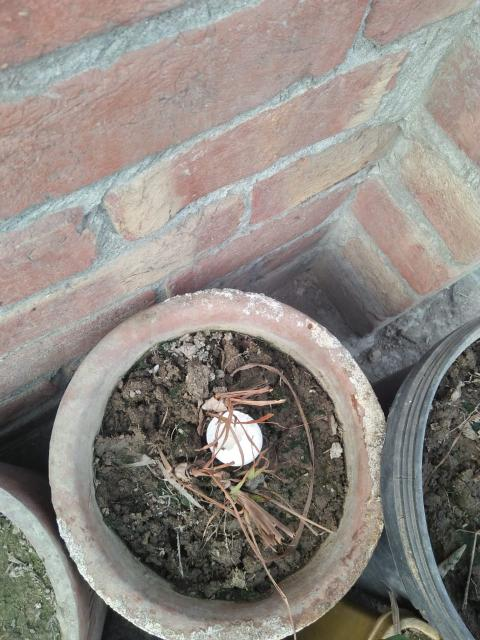Roto: (210, 409, 264, 465)
